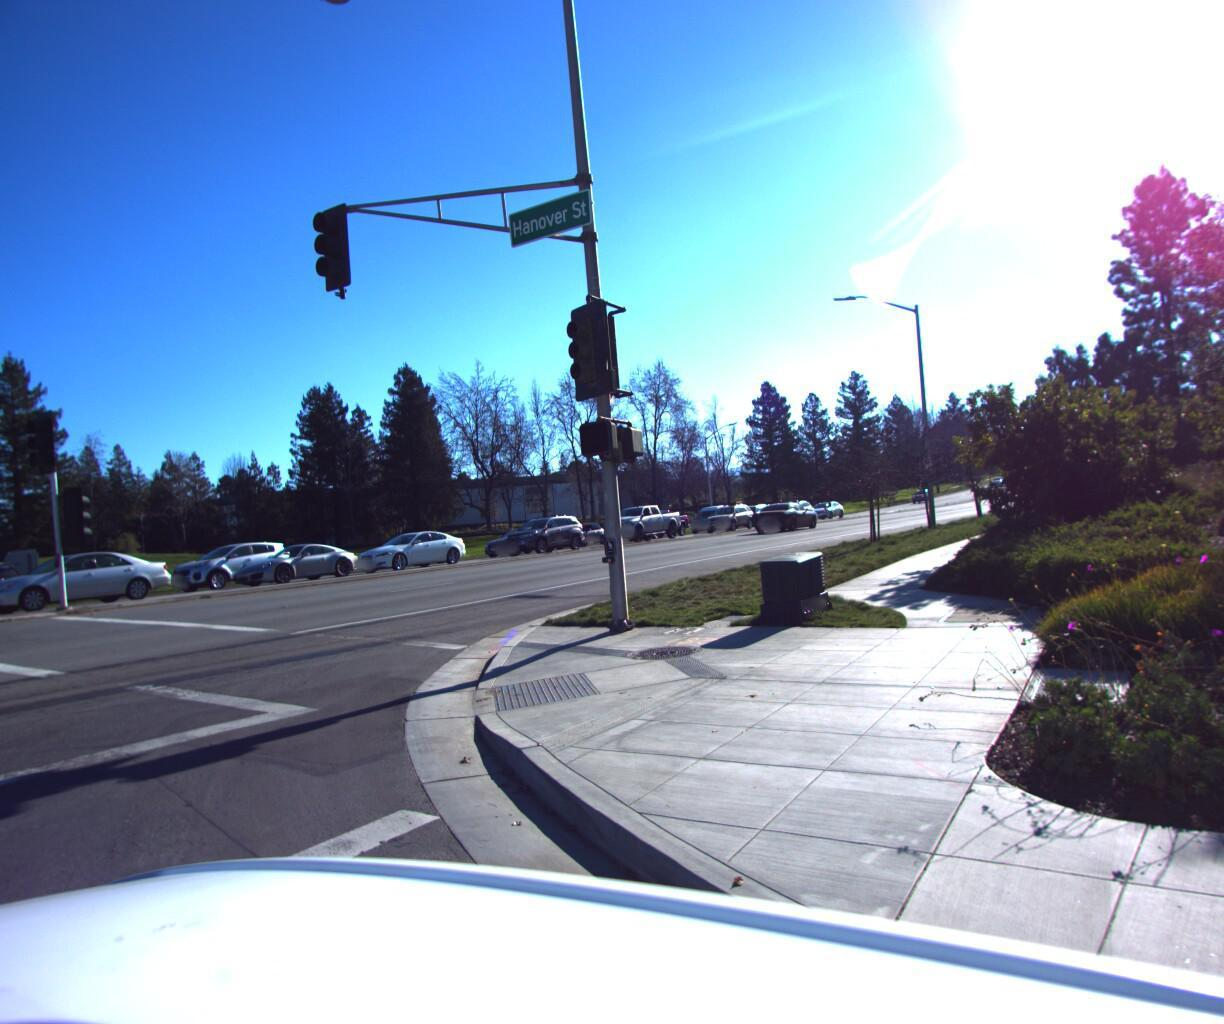car: (0, 540, 177, 611), (158, 532, 302, 588), (217, 531, 365, 583), (344, 519, 477, 568), (491, 505, 588, 551), (593, 498, 685, 540), (0, 550, 40, 623), (474, 519, 560, 552), (750, 493, 823, 528), (547, 516, 617, 544), (697, 494, 755, 528), (680, 497, 733, 527)
